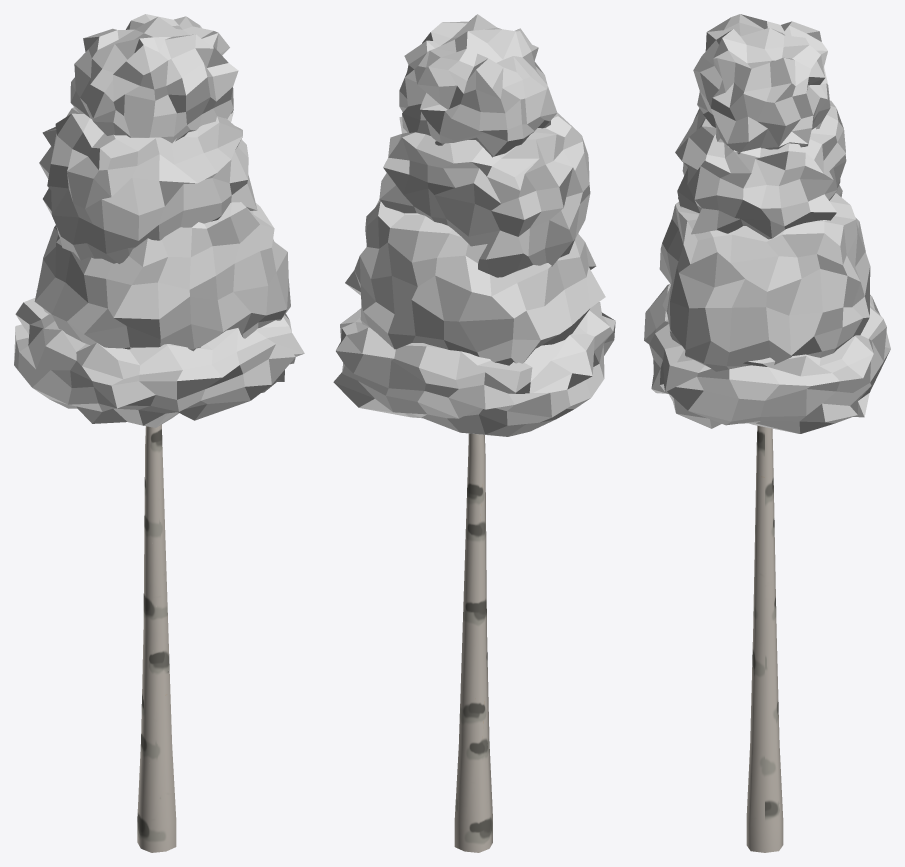
File: birch3.fbx
3 renders of one model, left to right at view 1: azimuth 30°, elevation 25°; view 2: azimuth 150°, elevation 25°; view 3: azimuth 270°, elevation 25°, orthographic.
Visible parts, largest first — view 1: Foliage, Tree; view 2: Foliage, Tree; view 3: Foliage, Tree.
Boxes of the visible parts, x1,y1,x2,y2 form: Foliage: (14, 14, 304, 427); Tree: (137, 424, 176, 852); Foliage: (333, 14, 615, 436); Tree: (454, 433, 492, 852); Foliage: (644, 14, 890, 433); Tree: (746, 425, 783, 852).
Size of the model in its own units: 1966 by 6398 by 1748.
Materials: 2 (1 with a texture image).
